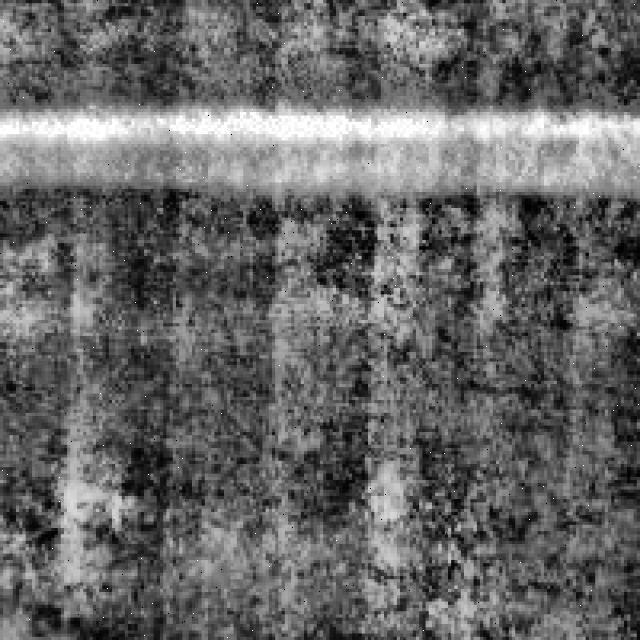Inclusion: (0, 100, 634, 182)
